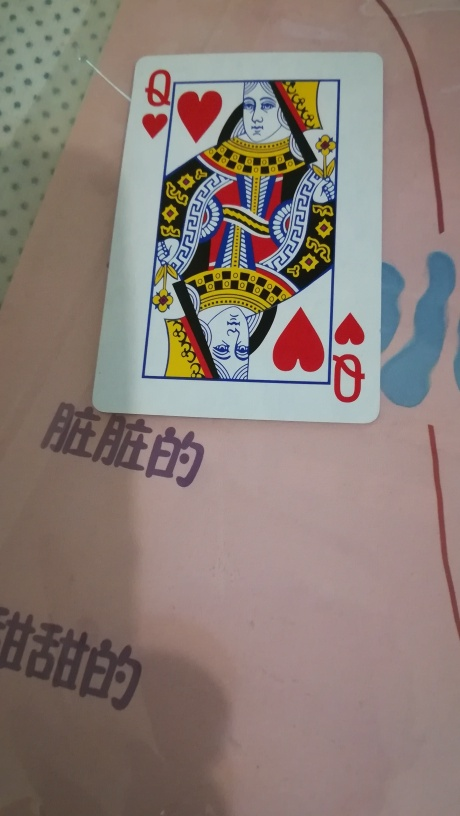hx q: (89, 48, 385, 426)
